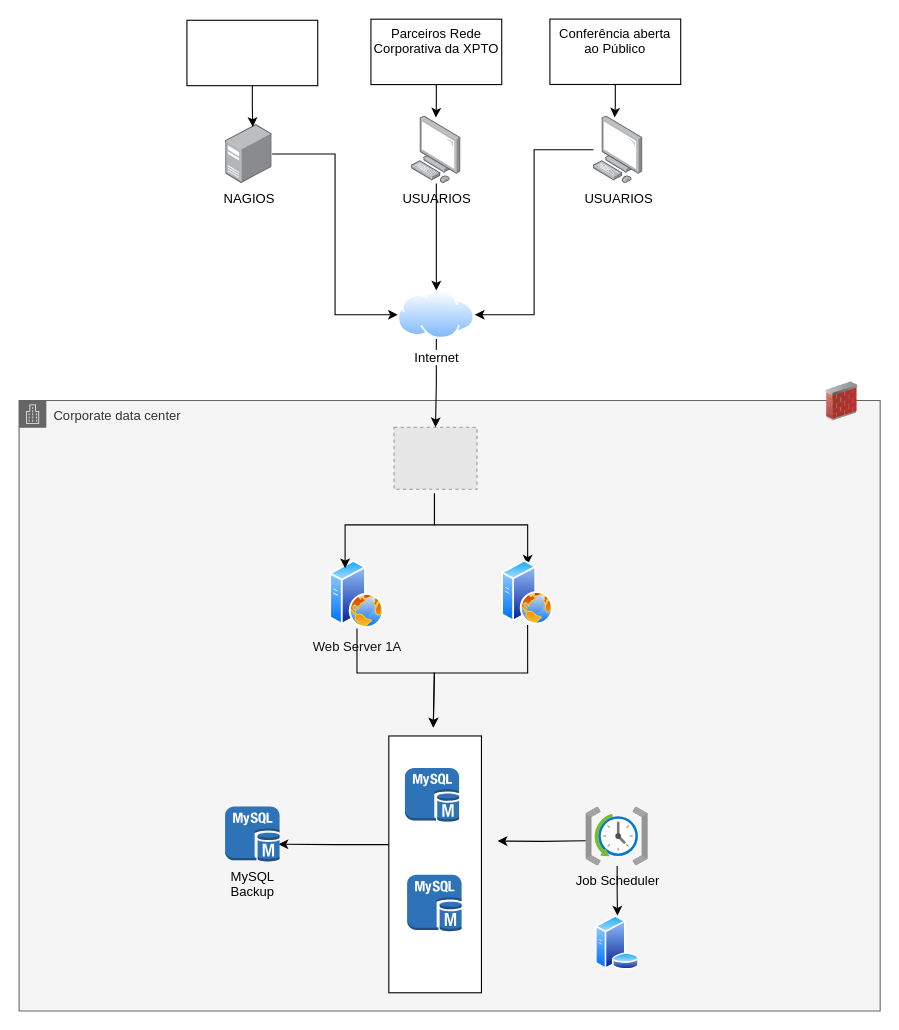
The diagram is 899 pixels wide and 1030 high, and some of its shapes have lost their labels. Grey dashed boxes stand in for pictures. Each missing label, with the centre of its shape:
Alarmes que o nagios gera e dispara para a área: [252,52]
MySQL Master 1: [431,794]
MySQL Master 2: [434,902]
NetSMS: [617,942]
Web Server 2A: [527,592]
